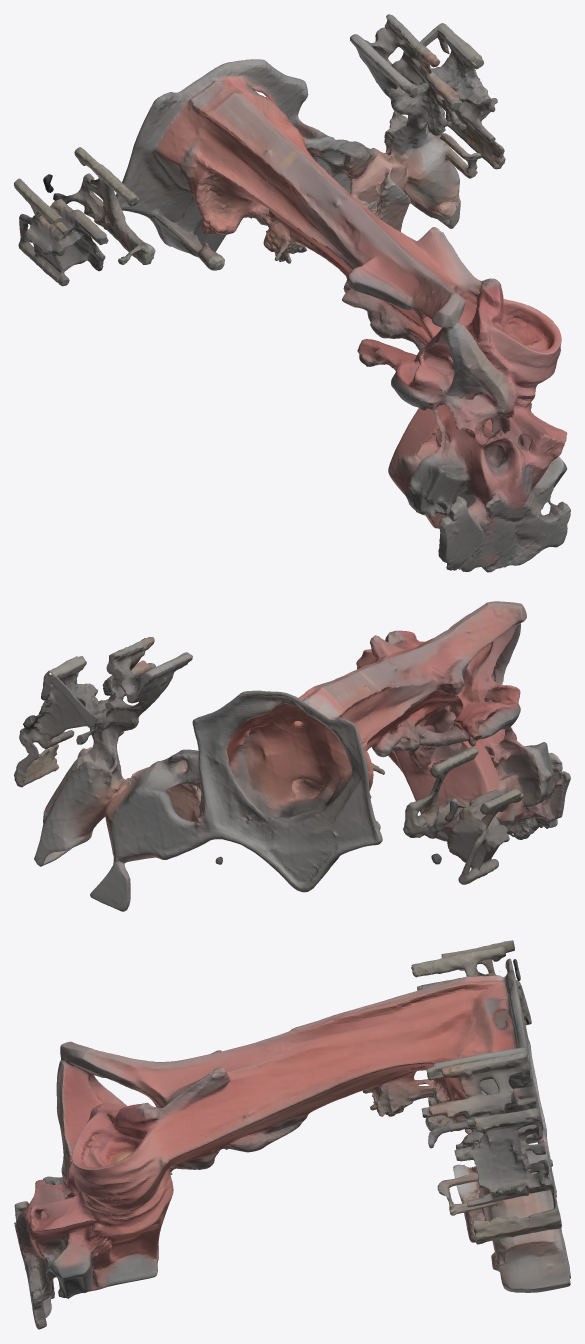
The model's file is entity-robot-photo-4.glb.
3 renders of one model, top to bottom at view 1: azimuth 30°, elevation 25°; view 2: azimuth 150°, elevation 25°; view 3: azimuth 270°, elevation 25°, orthographic. The views are drawn at different scales.
Visible parts, largest first — view 1: geometry_0; view 2: geometry_0; view 3: geometry_0.
Part boxes in pixels (x1=…): geometry_0: x1=14, y1=14, x2=570, y2=572; geometry_0: x1=14, y1=601, x2=570, y2=911; geometry_0: x1=14, y1=940, x2=570, y2=1329.
Size of the model in its own units: 2.6 by 1.75 by 2.72.
